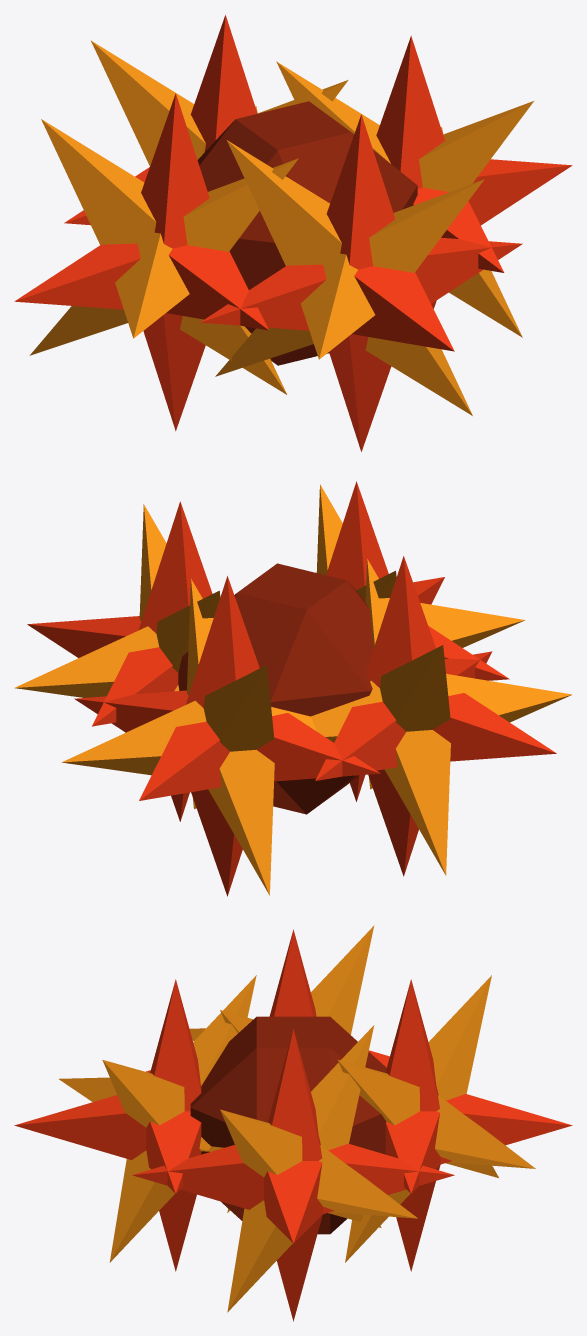
3 views of the same model, one above another, from view 1: azimuth 30°, elevation 25°; view 2: azimuth 150°, elevation 25°; view 3: azimuth 270°, elevation 25° (orthographic). The views are drawn at different scales.
Size of the model in its own units: 0.5938 by 0.3438 by 0.5938.
